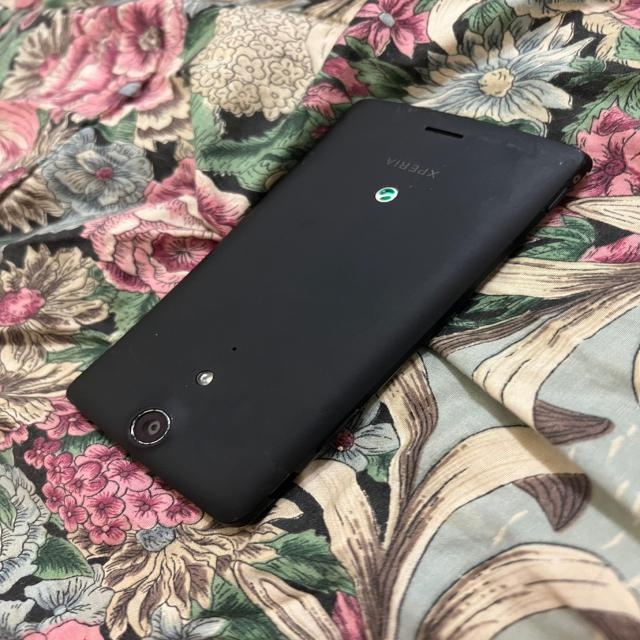Smartphone: (66, 100, 592, 525)
